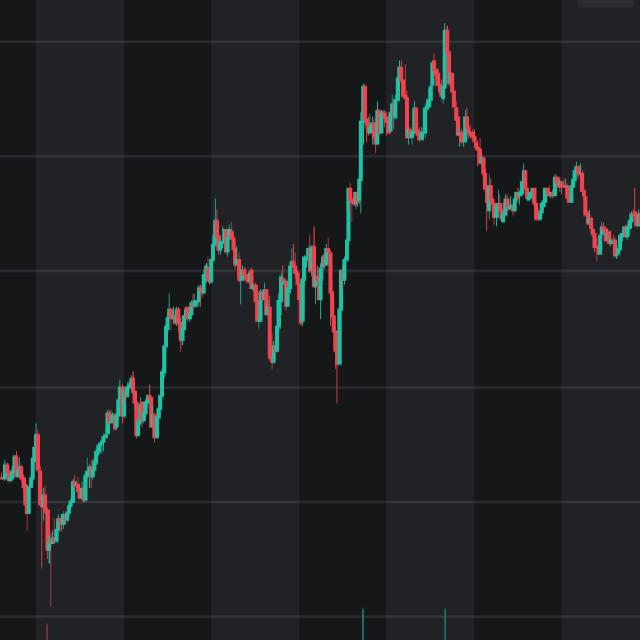Resistance-Emerging: (159, 202, 341, 382), (353, 23, 482, 158), (494, 155, 640, 268)
